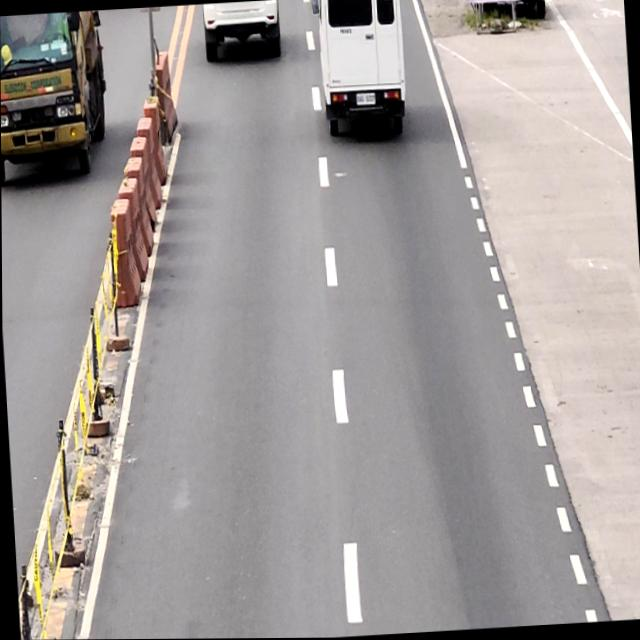Car: (310, 0, 411, 145), (202, 0, 281, 64)
License-Plate: (356, 91, 375, 107)
